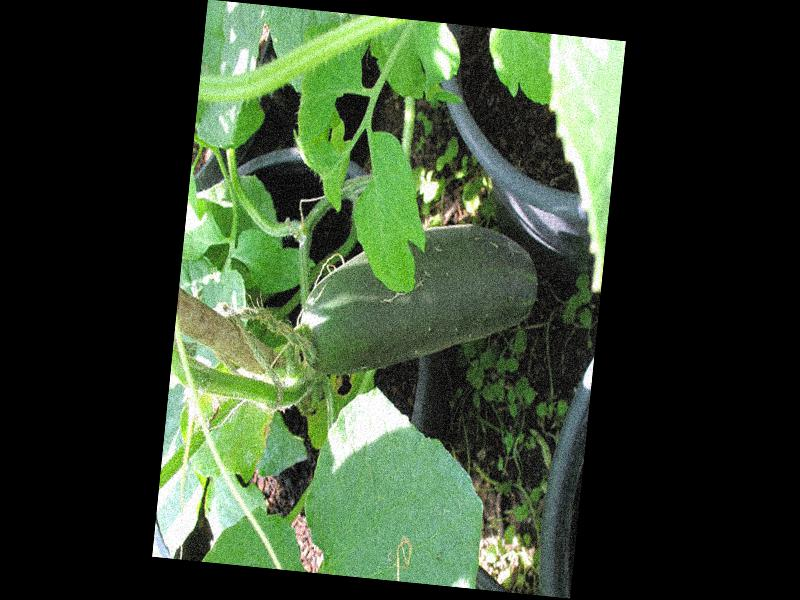Cucumber: (293, 209, 542, 394)
